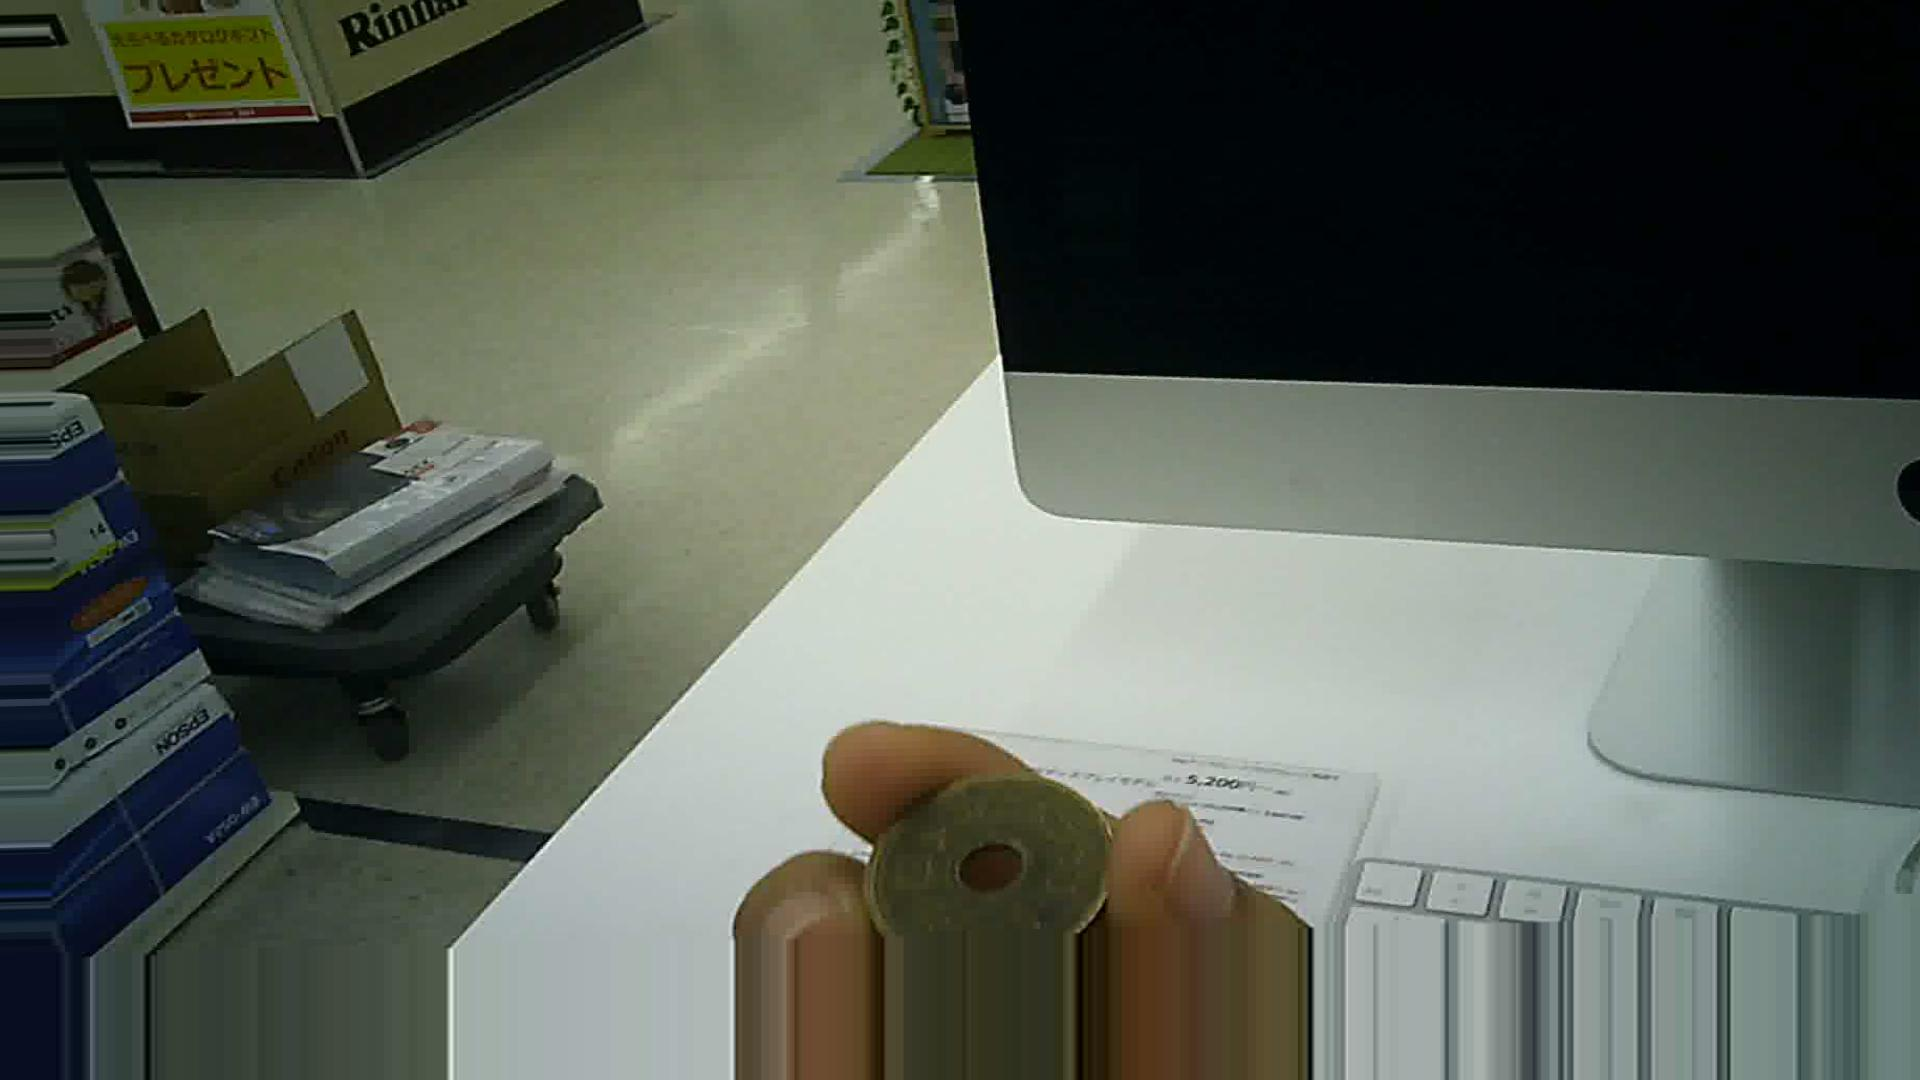5 Yen: (844, 769, 1109, 945)
